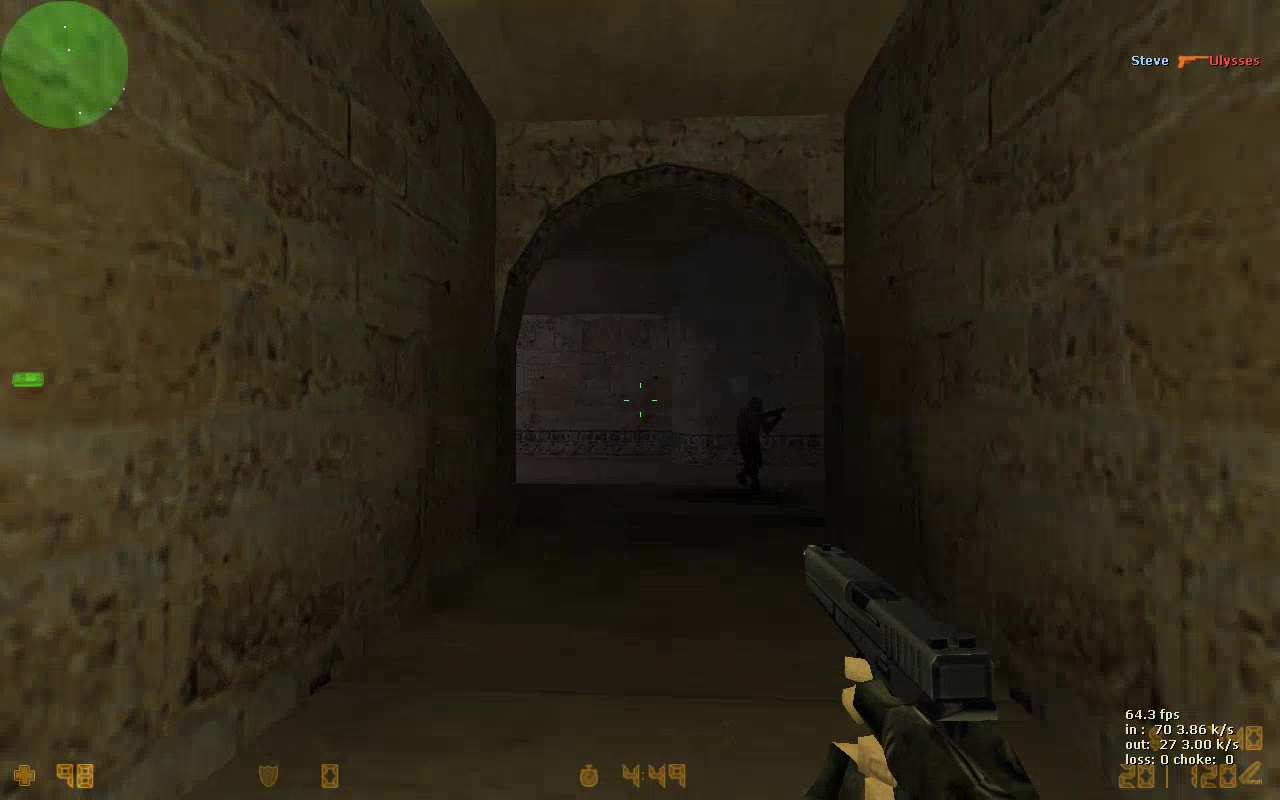terr1: (724, 404, 787, 487)
